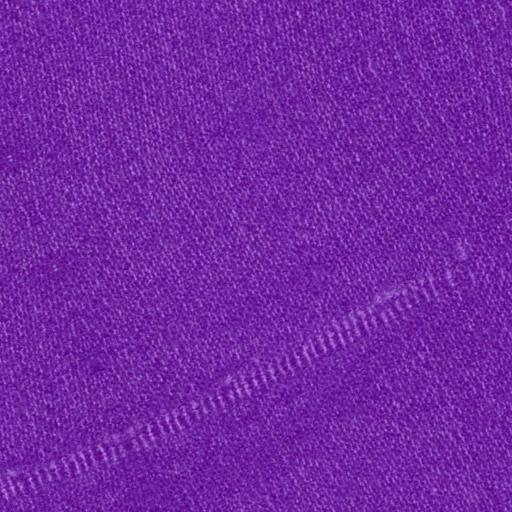slub: (1, 265, 470, 503)
